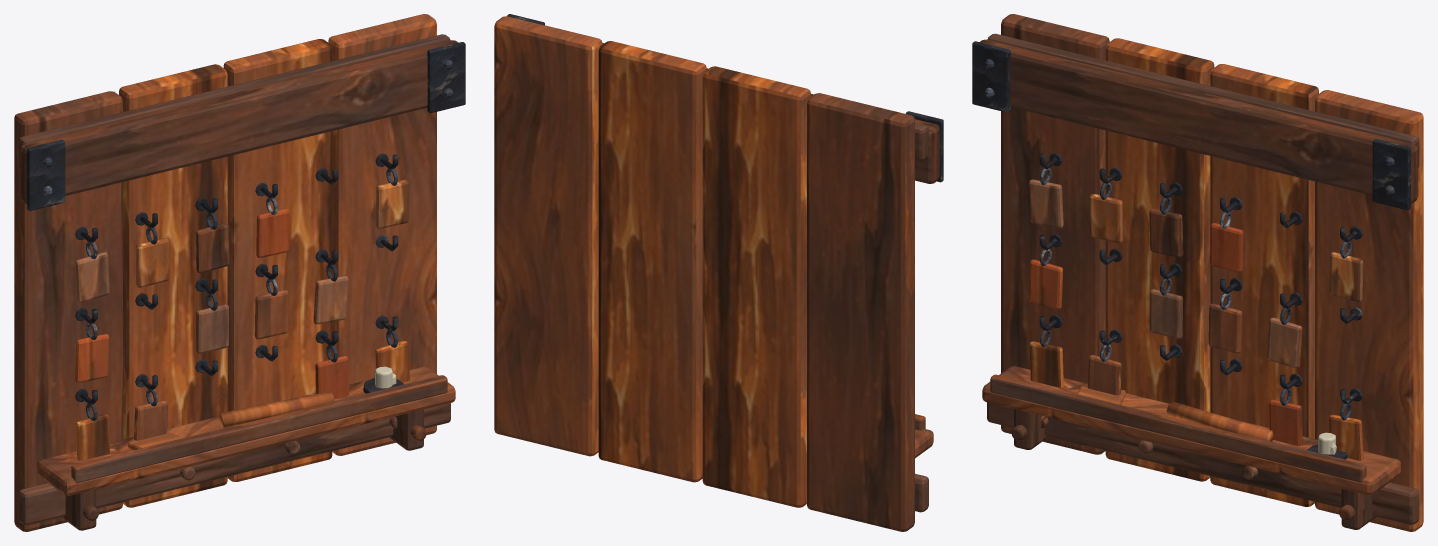
Rendered from mp_tag_board.glb.
3 views of the same model, side by side, from view 1: azimuth 30°, elevation 25°; view 2: azimuth 150°, elevation 25°; view 3: azimuth 330°, elevation 25° (orthographic).
Visible parts, largest first — view 1: model; view 2: model; view 3: model.
Boxes of the visible parts, x1,y1,x2,y2 form: model: [14, 14, 465, 531]; model: [494, 14, 943, 531]; model: [972, 14, 1423, 531].
Bounding box in the file's own units: 0.96 × 0.8736 × 0.161.
14 materials, 13 textured.
